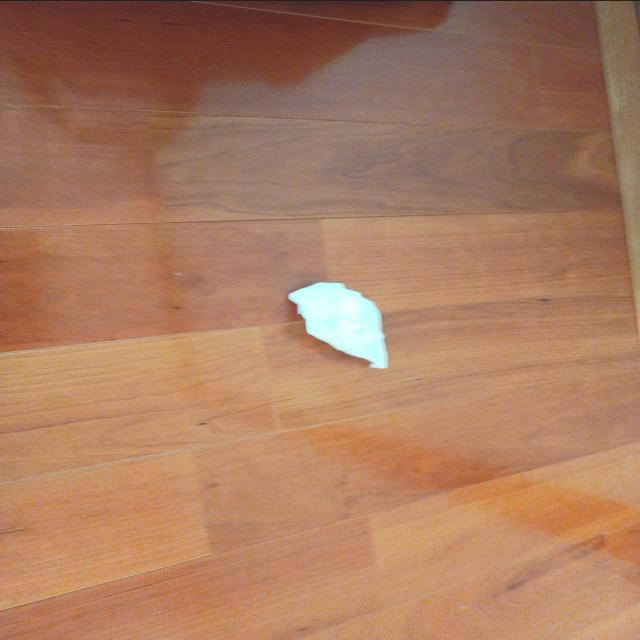Paper: (281, 263, 402, 384)
